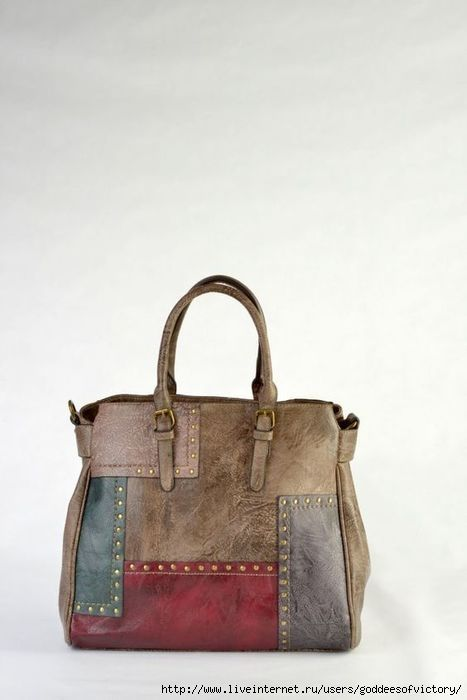cuero: (57, 272, 371, 655)
